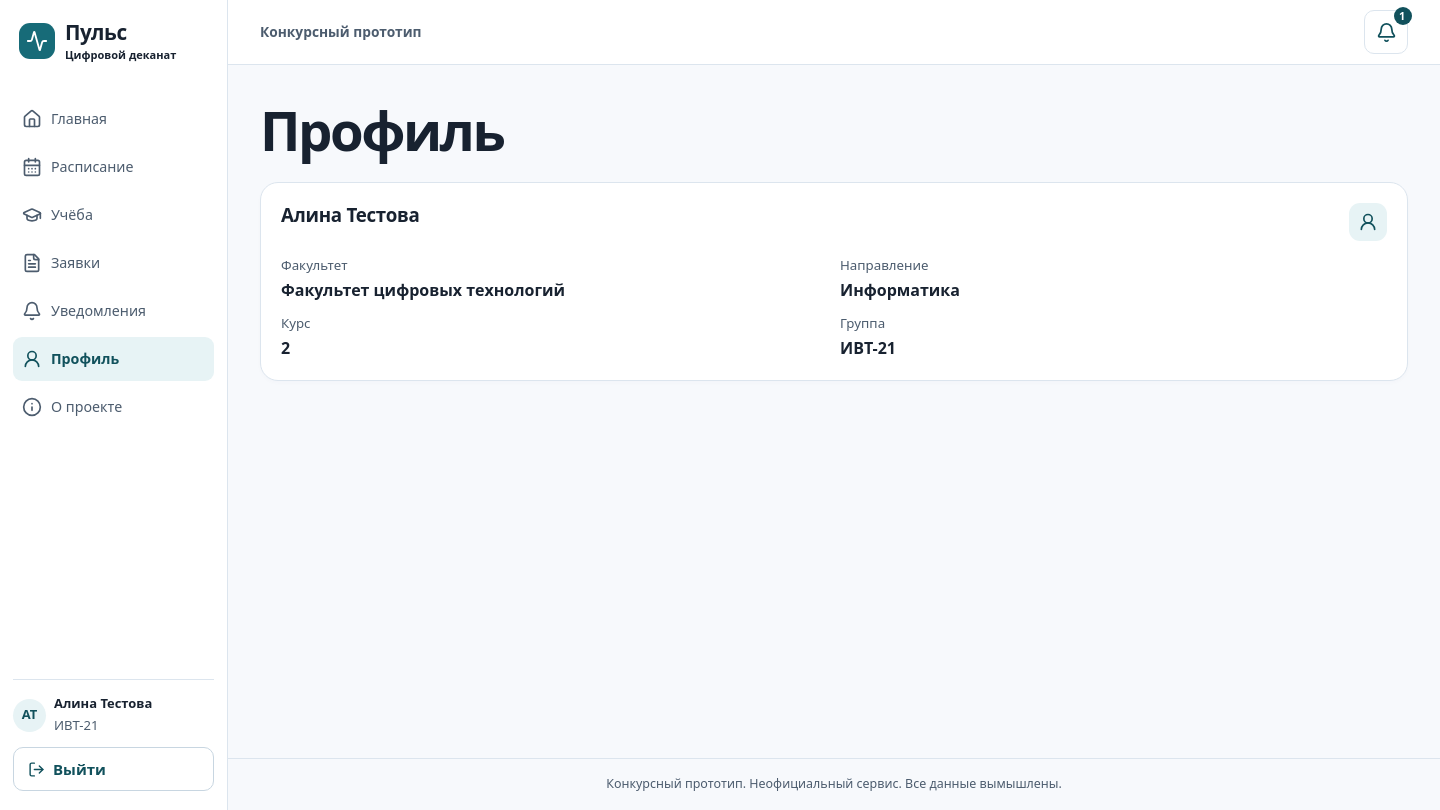
Вход и навигация › показывает профиль и страницу проекта и очищает данные после выхода
The width and height of the screenshot is (1440, 810).
Expected: the heading "Алина Тестова" is shown, x1=281 y1=203 x2=420 y2=226
Expected: the text "ИВТ-21" below "О проекте" is shown, x1=54 y1=716 x2=99 y2=734
Click the link "О проекте" at (72, 407), box x1=22 y1=397 x2=122 y2=417
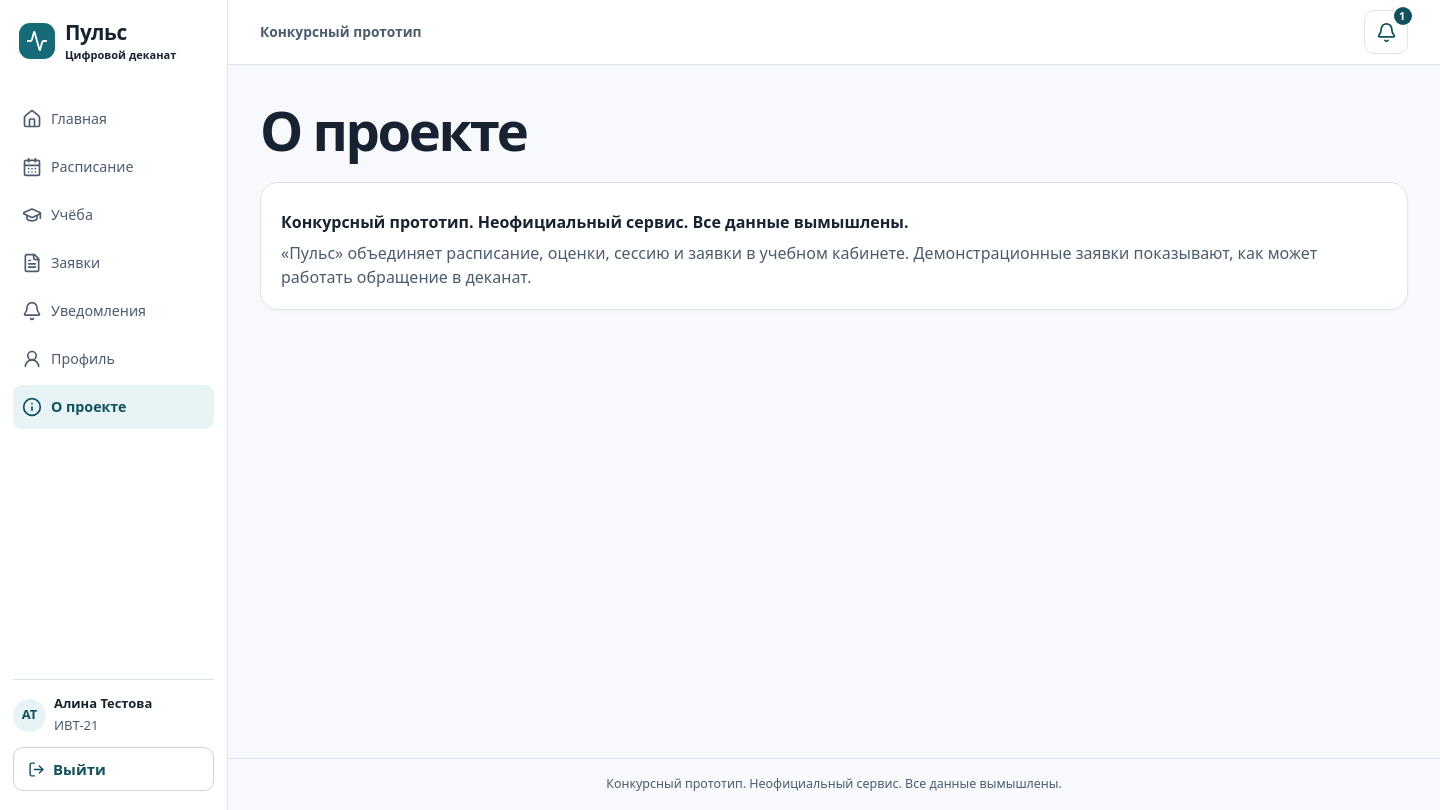
Now the heading "О проекте" is shown, box x1=260 y1=102 x2=526 y2=160
Click the button "Выйти" at (114, 769), box x1=13 y1=747 x2=214 y2=791
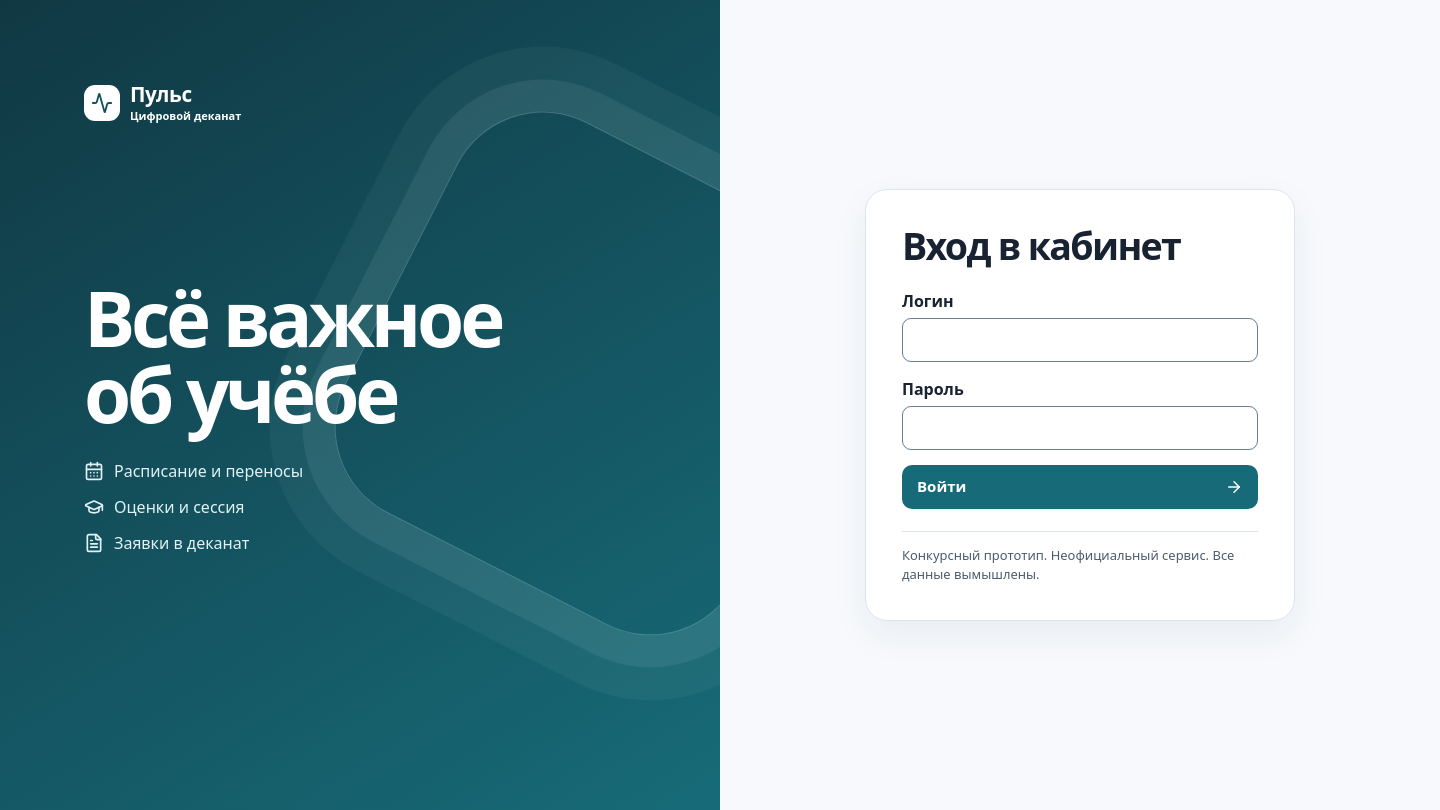
Now the heading "Вход в кабинет" is shown, box x1=902 y1=220 x2=1180 y2=271
